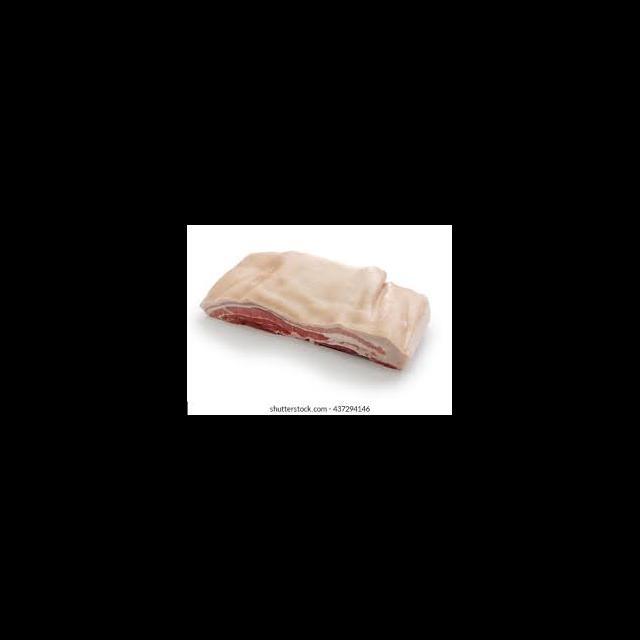pork: (201, 249, 431, 365)
